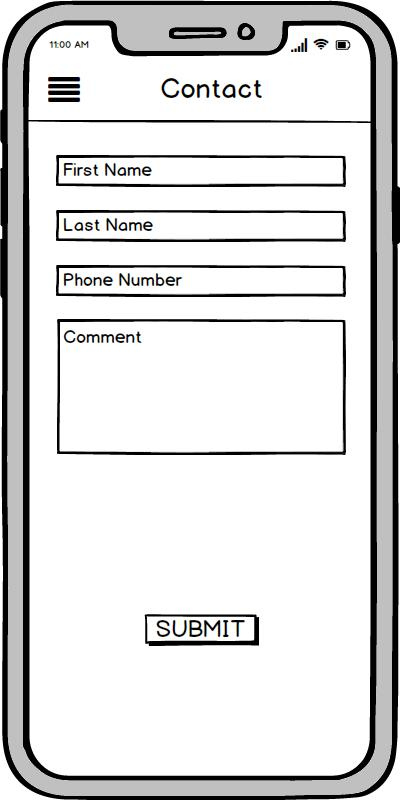EditText: (58, 319, 346, 455), (56, 265, 347, 298), (56, 210, 346, 243), (56, 156, 347, 187)
Icon: (48, 77, 82, 103)
Text: (161, 78, 264, 100)
TextButton: (144, 613, 260, 647)
Toolbar: (29, 61, 370, 122)
